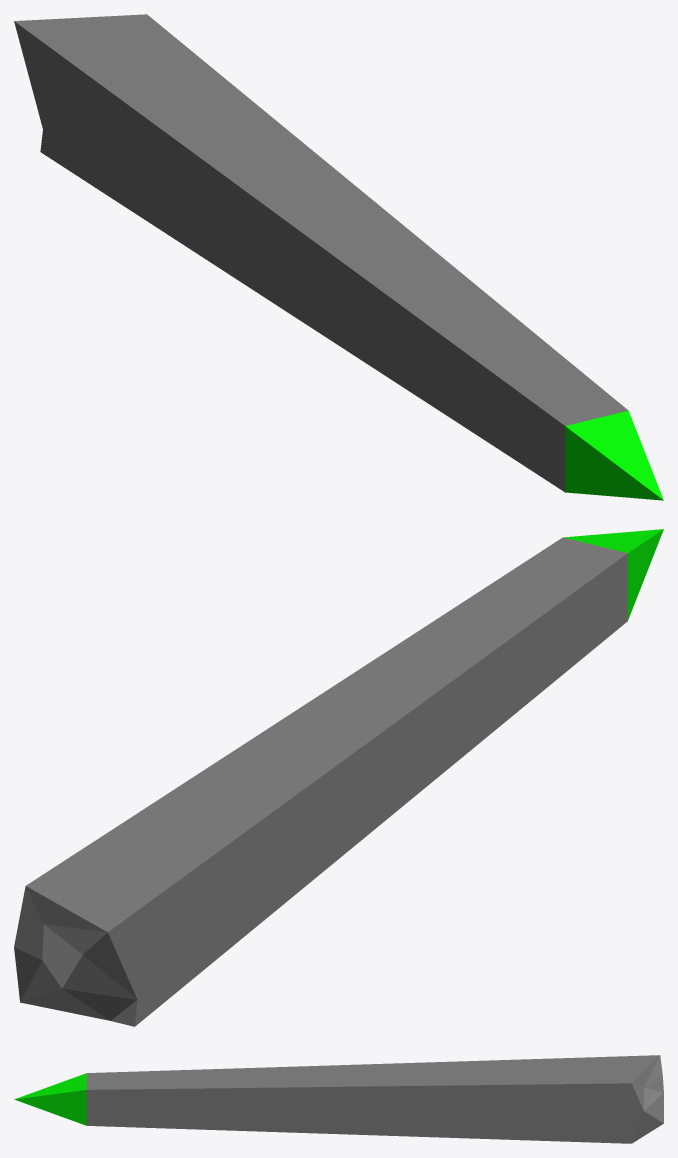
File: PillarObelisk04.fbx
3 views of the same model, one above another, from view 1: azimuth 30°, elevation 25°; view 2: azimuth 150°, elevation 25°; view 3: azimuth 270°, elevation 25° (orthographic). The views are drawn at different scales.
Parts seen in each view (by area): view 1: PillarObelisk04; view 2: PillarObelisk04; view 3: PillarObelisk04.
Part boxes in pixels (bbox=[...]): PillarObelisk04: bbox=[14, 14, 663, 500]; PillarObelisk04: bbox=[14, 529, 663, 1026]; PillarObelisk04: bbox=[14, 1055, 663, 1143].
Bounding box in the file's own units: 90.42 × 90.42 × 881.
